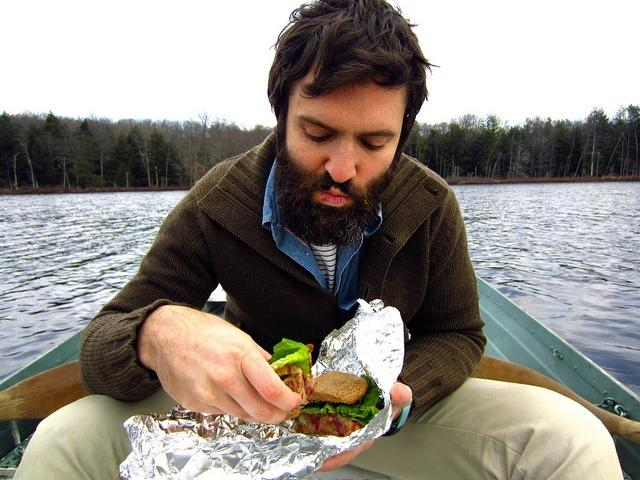lettuce: (268, 338, 310, 378), (342, 406, 382, 422), (341, 414, 374, 426), (336, 404, 360, 414)
